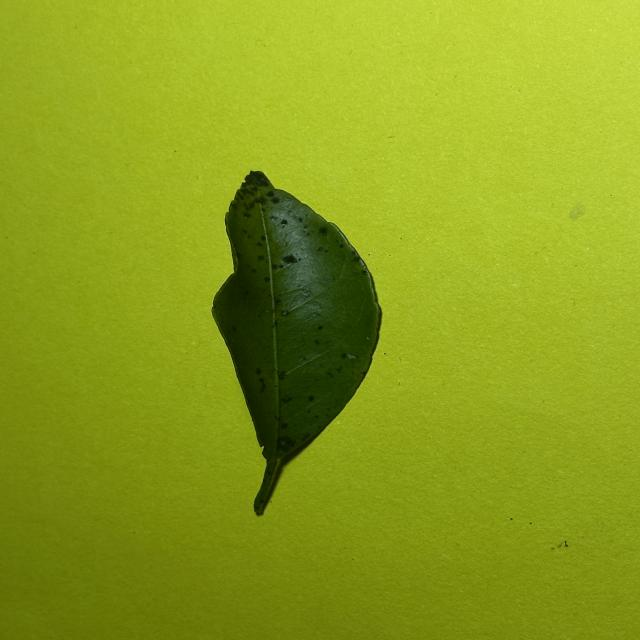sooty_mold: (212, 171, 381, 515)
